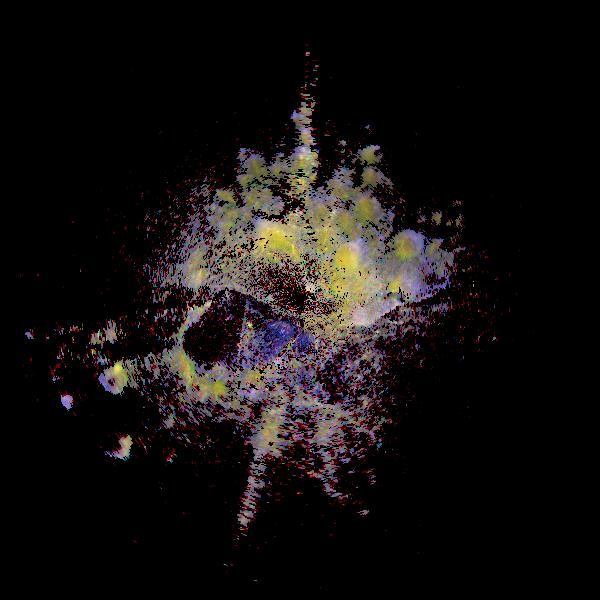roost: (156, 350, 195, 389), (95, 363, 128, 396), (101, 428, 134, 461), (336, 240, 369, 273), (258, 216, 288, 246)
